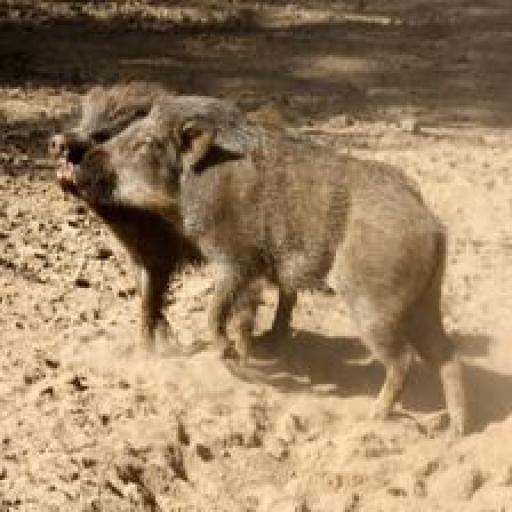Pig: (44, 73, 482, 446)
